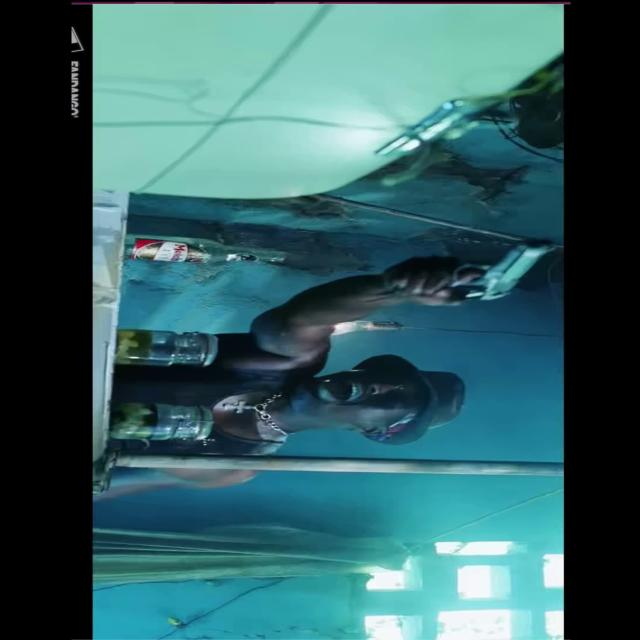weapons: (388, 232, 564, 310)
